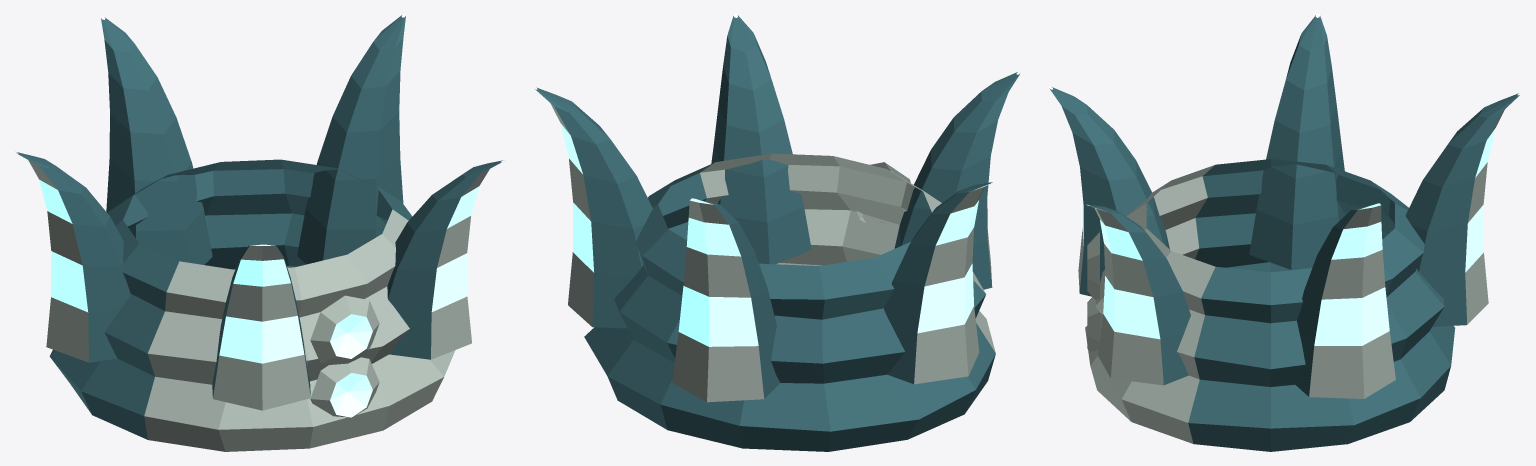
Rendered from hoard_tentacle_trunk.glb.
The picture shows the model from 3 angles, left to right: view 1: azimuth 30°, elevation 25°; view 2: azimuth 150°, elevation 25°; view 3: azimuth 270°, elevation 25°; orthographic projection. The views are drawn at different scales.
Visible parts, largest first — view 1: Trunk_Collar; view 2: Trunk_Collar; view 3: Trunk_Collar.
Boxes of the visible parts, x1,y1,x2,y2 form: Trunk_Collar: [14, 14, 504, 451]; Trunk_Collar: [533, 14, 1020, 451]; Trunk_Collar: [1049, 14, 1521, 451].
Bounding box in the file's own units: 4.13 × 2.55 × 4.09.
